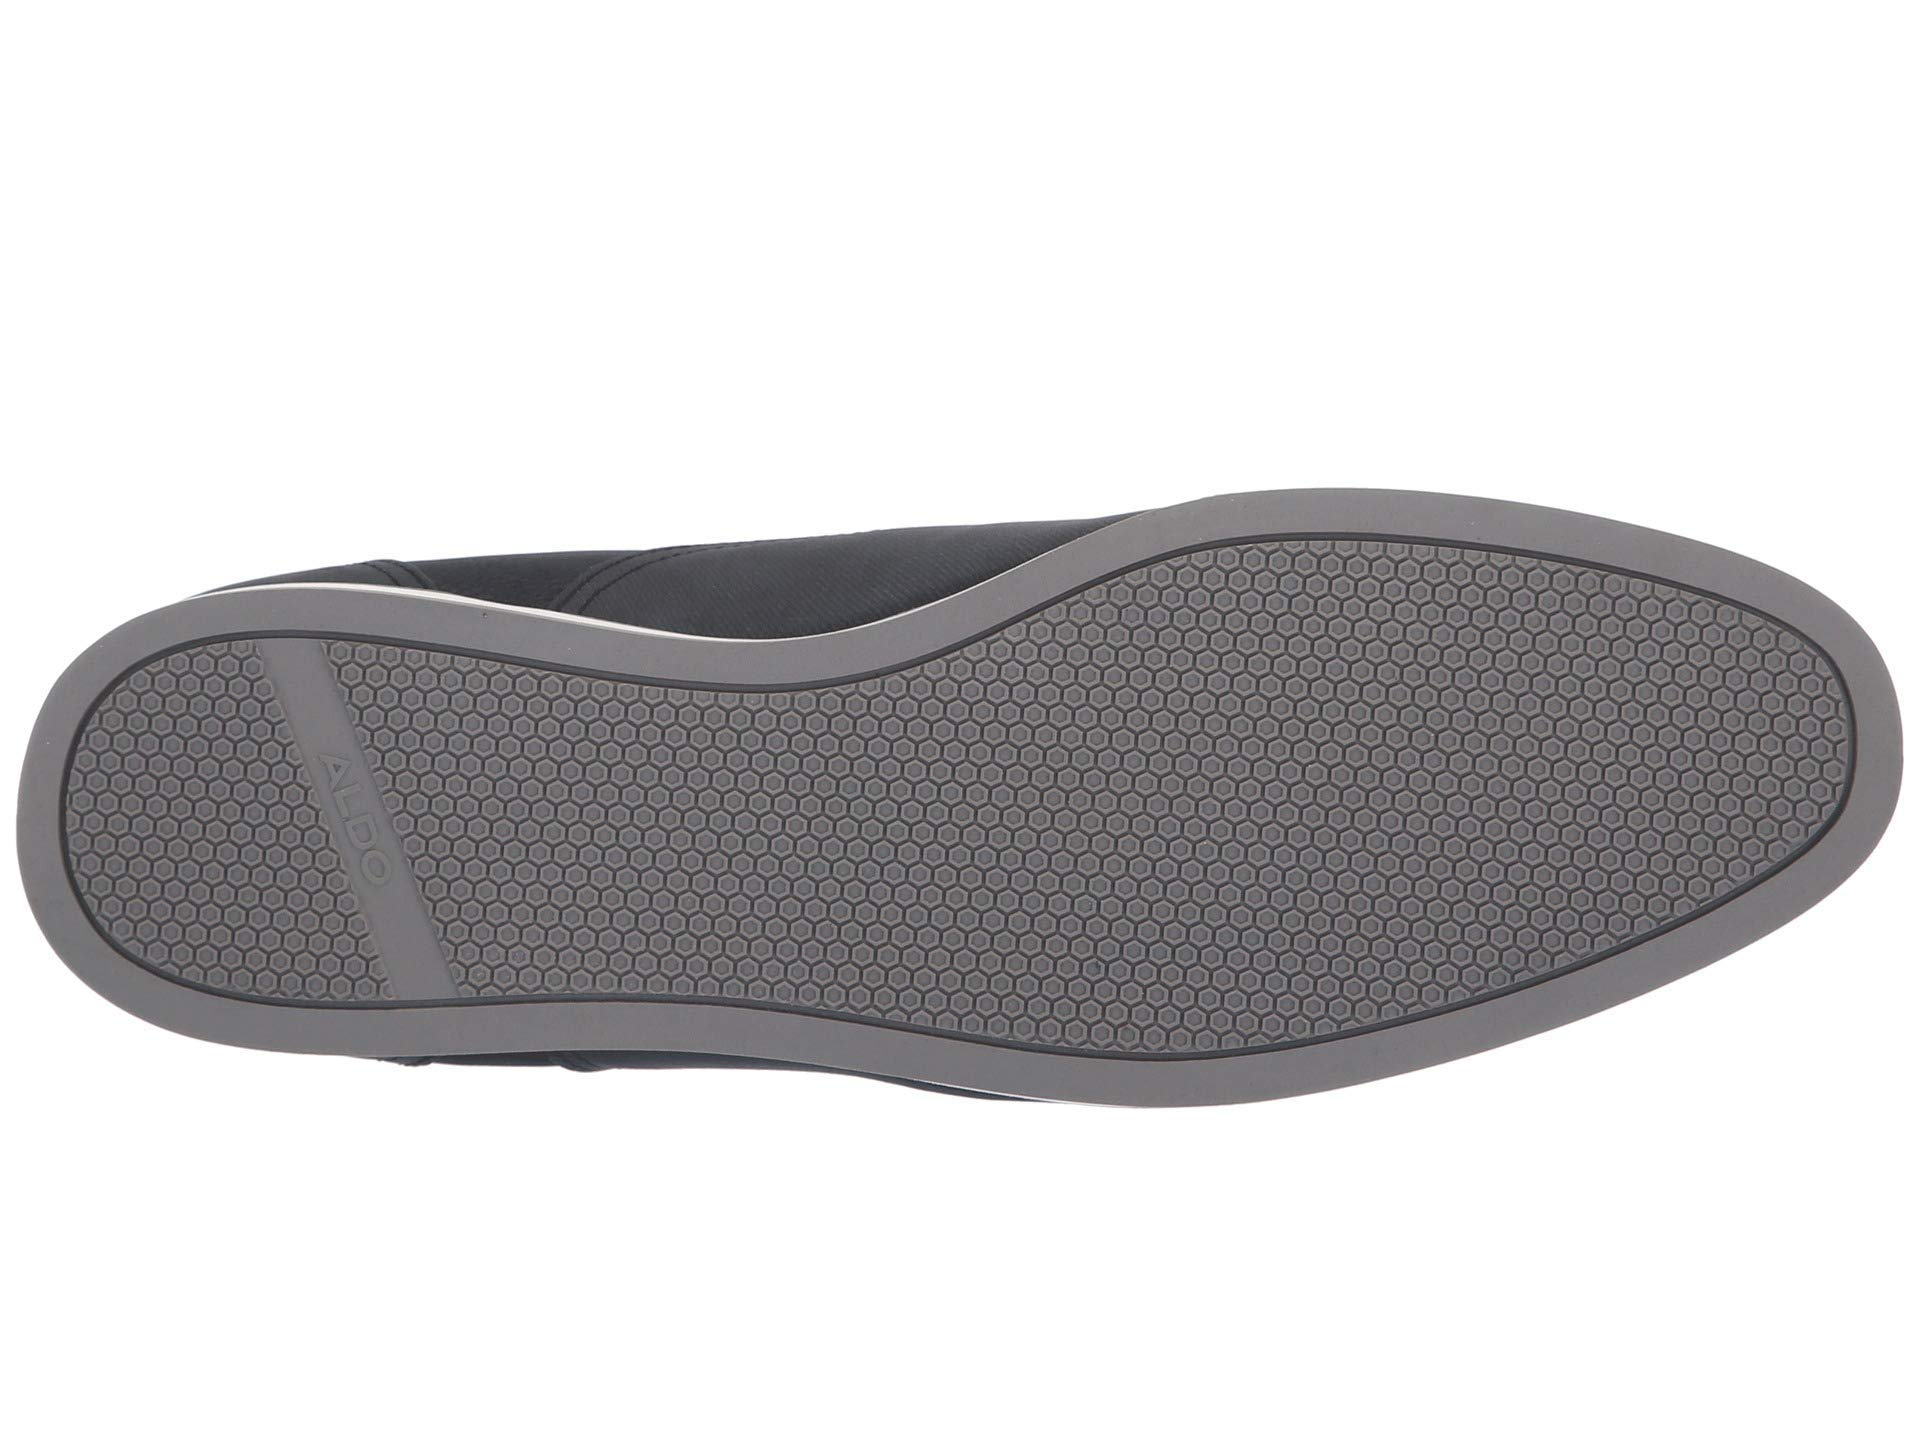circle: (317, 740, 404, 911)
polygon: (822, 697, 1243, 997), (1288, 567, 1510, 980), (522, 712, 789, 968), (1538, 610, 1779, 888), (125, 715, 283, 959)
text: (317, 740, 404, 911)
triangle: (317, 740, 404, 911)
